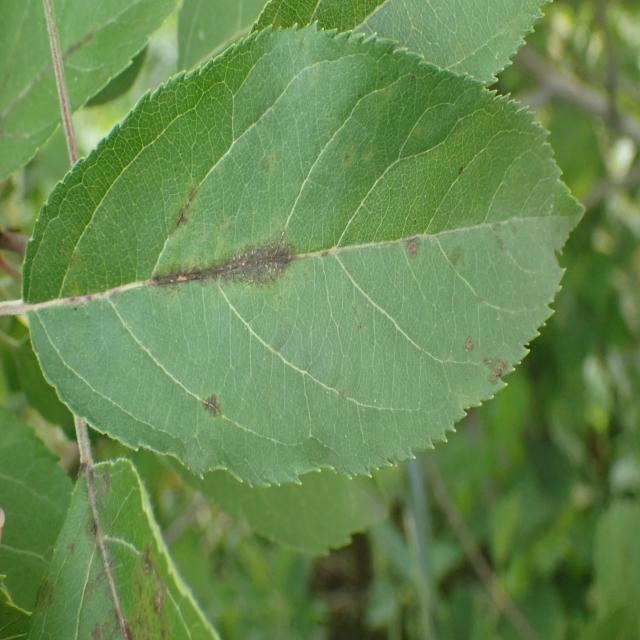scab: (85, 142, 570, 415)
